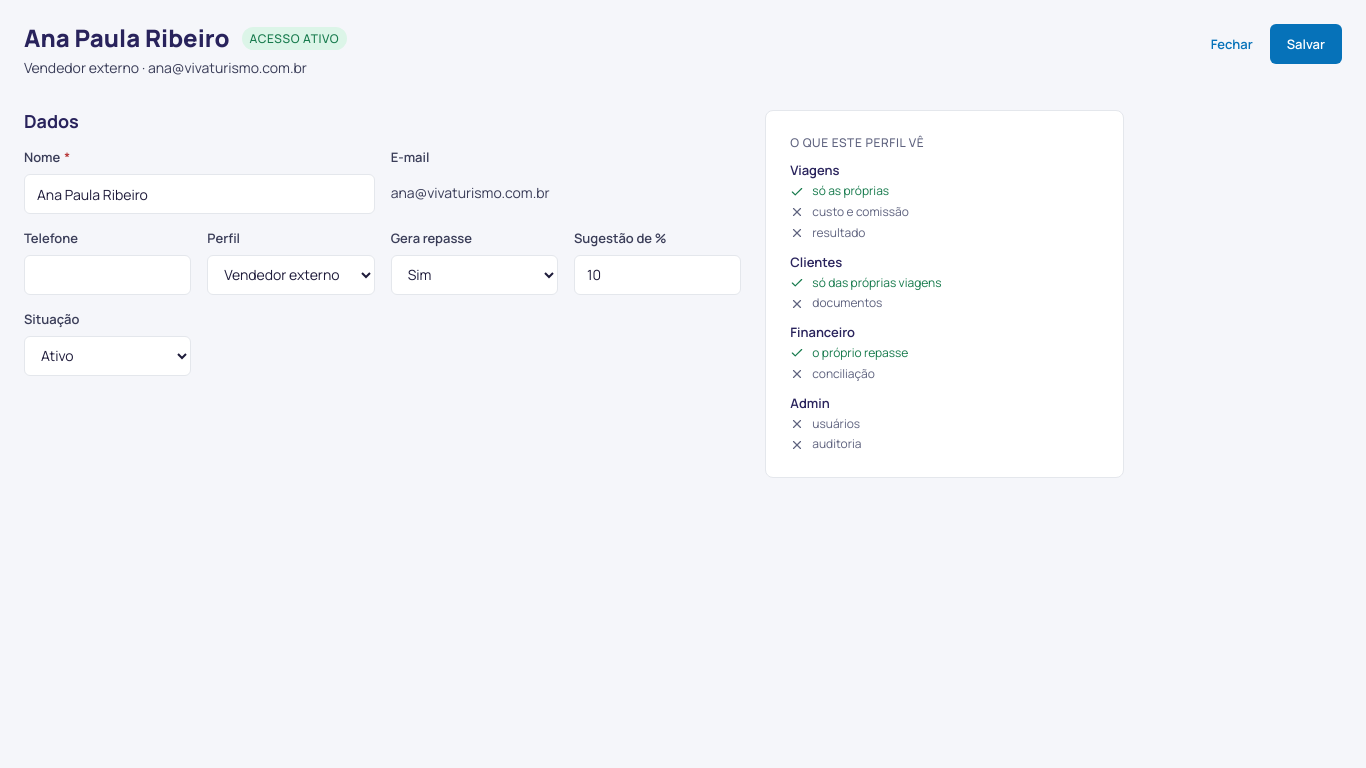
Test: 422 ultimo_dono mostra o alerta
Check: the field showing "Ana Paula Ribeiro" is shown, box [24, 174, 375, 214]
What coordinates should you click on to do the following:
click the button "Salvar"
I would click on:
 (1306, 44)
Its box is [1270, 24, 1342, 64].
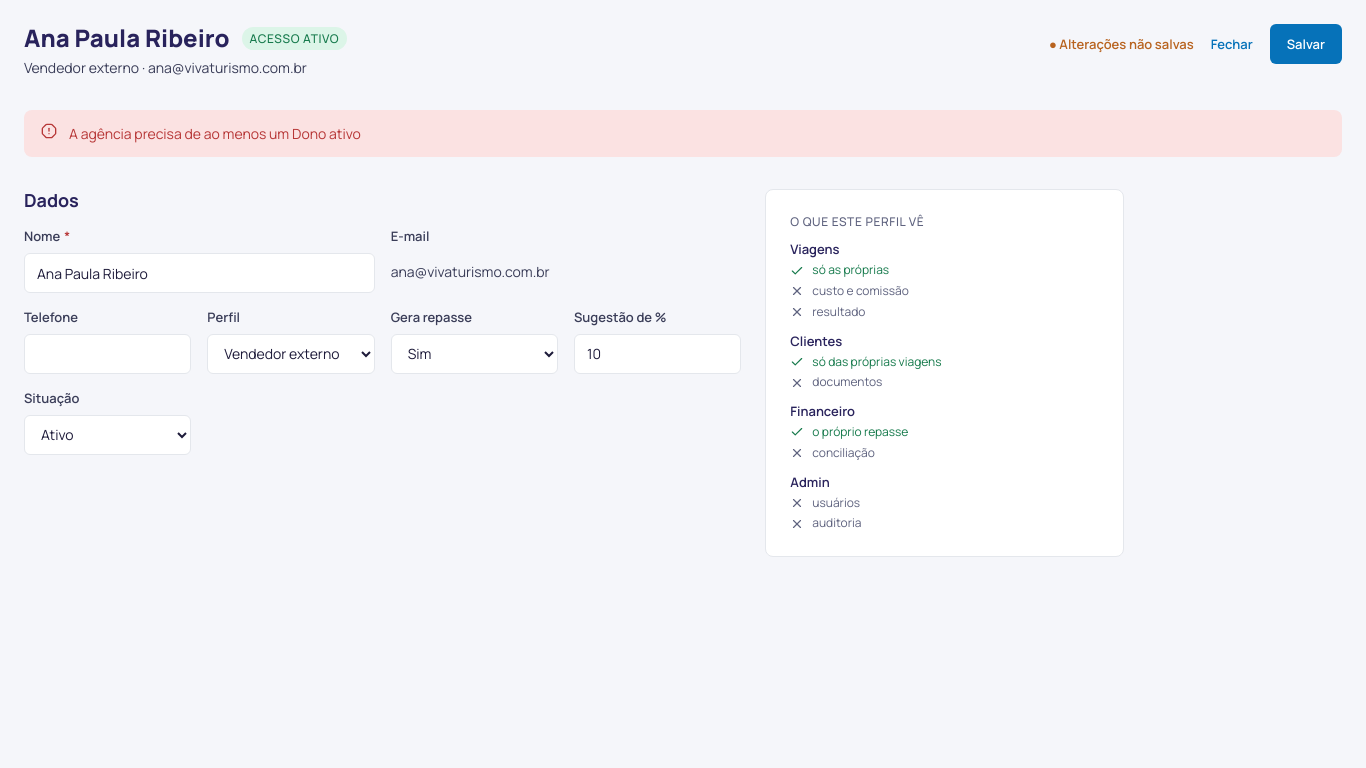
Check: the text "A agência precisa de ao menos um Dono ativo" is shown, box [69, 124, 361, 143]
